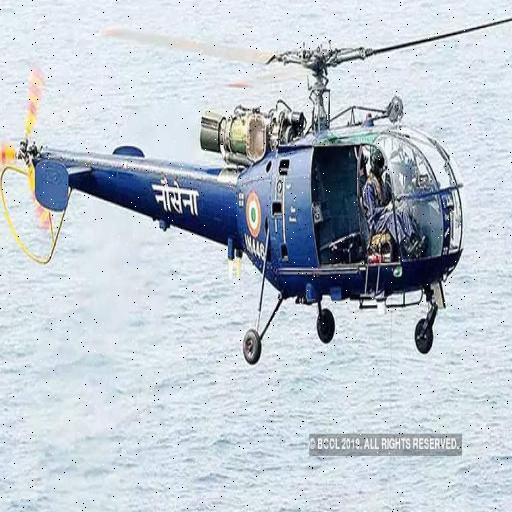helicopter: (1, 5, 494, 379)
